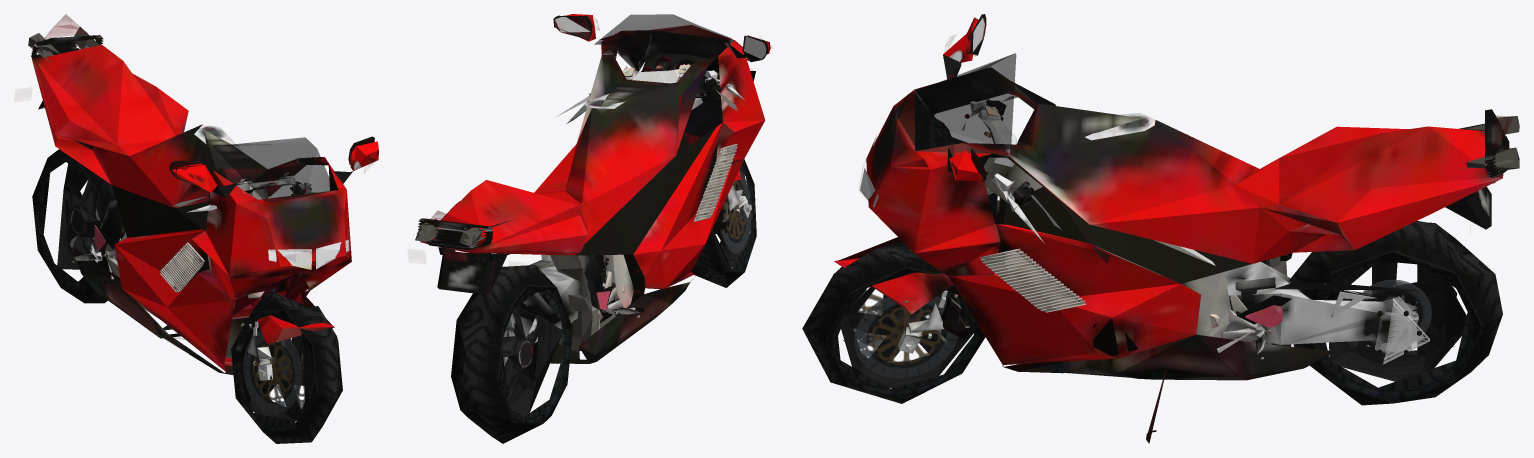
File: motorbike_lo.glb
The picture shows the model from 3 angles, left to right: view 1: azimuth 30°, elevation 25°; view 2: azimuth 150°, elevation 25°; view 3: azimuth 270°, elevation 25°; orthographic projection. The views are drawn at different scales.
Visible parts, largest first — view 1: BODY, W1, W0; view 2: BODY, W0, W1; view 3: BODY, W0, W1.
Part boxes in pixels (x1=…): BODY: x1=28, y1=14, x2=378, y2=375; W1: x1=231, y1=289, x2=342, y2=443; W0: x1=32, y1=149, x2=115, y2=303; BODY: x1=415, y1=14, x2=772, y2=363; W0: x1=451, y1=265, x2=601, y2=443; W1: x1=691, y1=137, x2=756, y2=287; BODY: x1=859, y1=14, x2=1519, y2=443; W0: x1=1267, y1=221, x2=1502, y2=405; W1: x1=802, y1=237, x2=985, y2=403.
Bounding box in the file's own units: 0.8738 × 1.12 × 2.1.
Materials: 8 (7 with a texture image).
